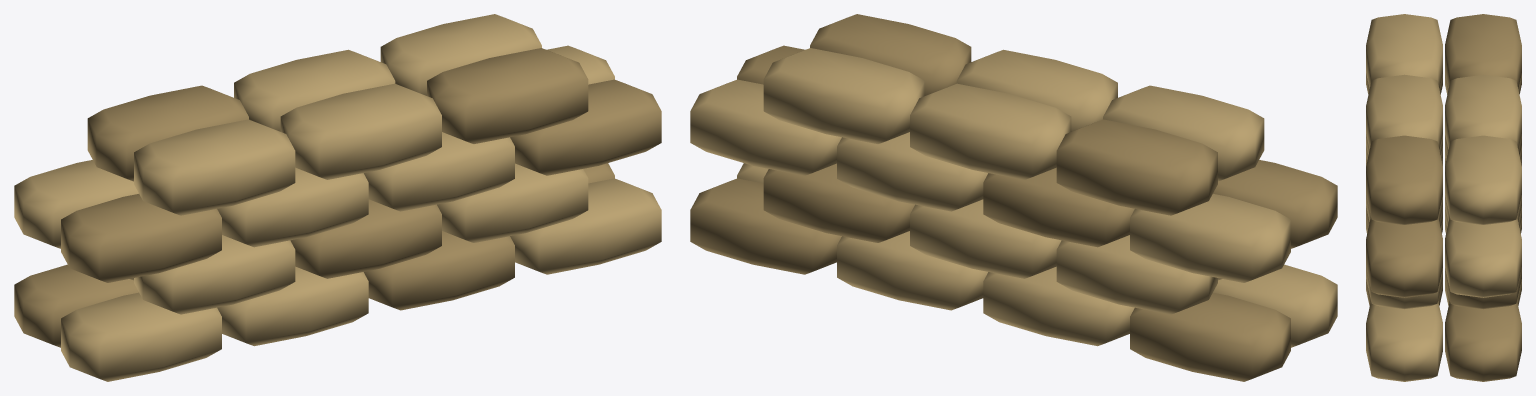
File: sandbag_wall.glb
3 views of the same model, side by side, from view 1: azimuth 30°, elevation 25°; view 2: azimuth 150°, elevation 25°; view 3: azimuth 270°, elevation 25° (orthographic). The views are drawn at different scales.
Visible parts, largest first — view 1: sandbag_wall; view 2: sandbag_wall; view 3: sandbag_wall.
Part boxes in pixels (x1=…): sandbag_wall: x1=14, y1=14, x2=661, y2=381; sandbag_wall: x1=690, y1=14, x2=1337, y2=381; sandbag_wall: x1=1366, y1=14, x2=1521, y2=381.
Bounding box in the file's own units: 2.47 × 0.82 × 0.6724.
